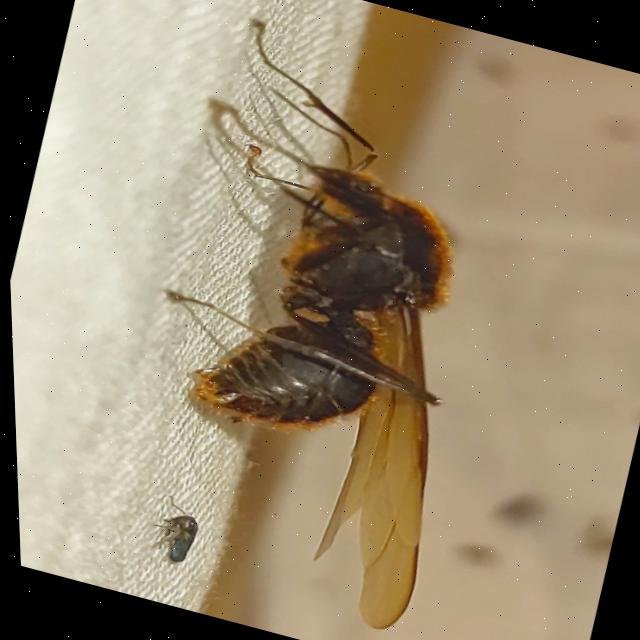Alive-Male-Alate: (81, 7, 546, 637)
